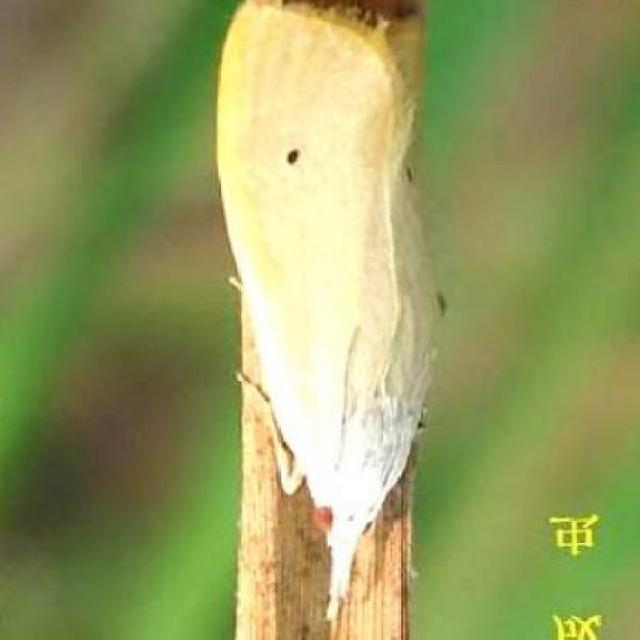stem-borer: (211, 0, 440, 628)
